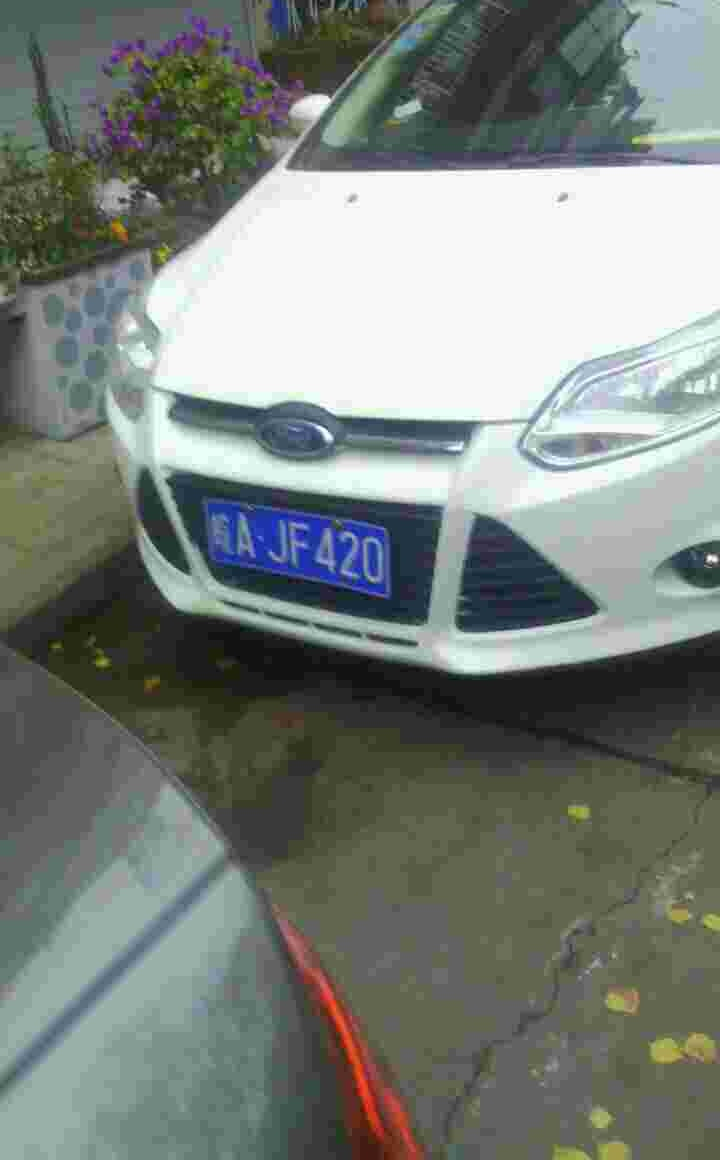license_plate: (195, 498, 391, 606)
